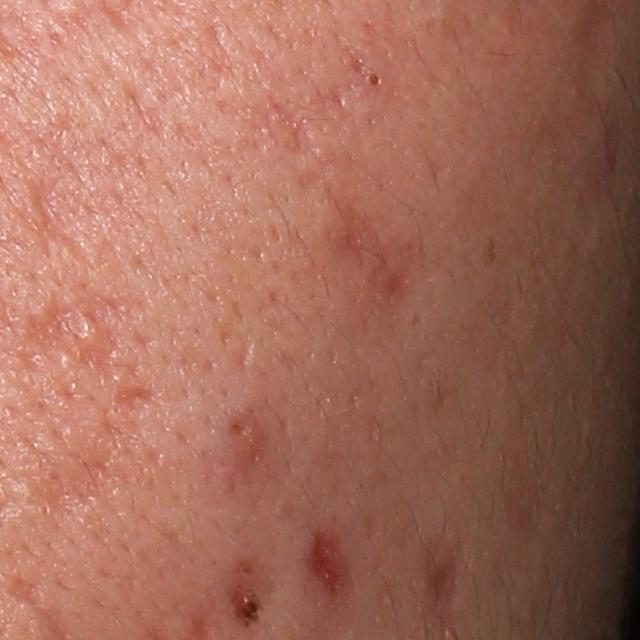atrophic_scar: (325, 198, 422, 318), (29, 439, 128, 512), (303, 510, 361, 616), (254, 90, 348, 154), (29, 176, 94, 268), (0, 566, 63, 635), (72, 315, 123, 380), (417, 544, 463, 611), (86, 285, 152, 324), (215, 313, 254, 371), (25, 301, 70, 348), (108, 381, 155, 413)
comedo: (365, 68, 384, 90)
nevus: (234, 595, 265, 626)
